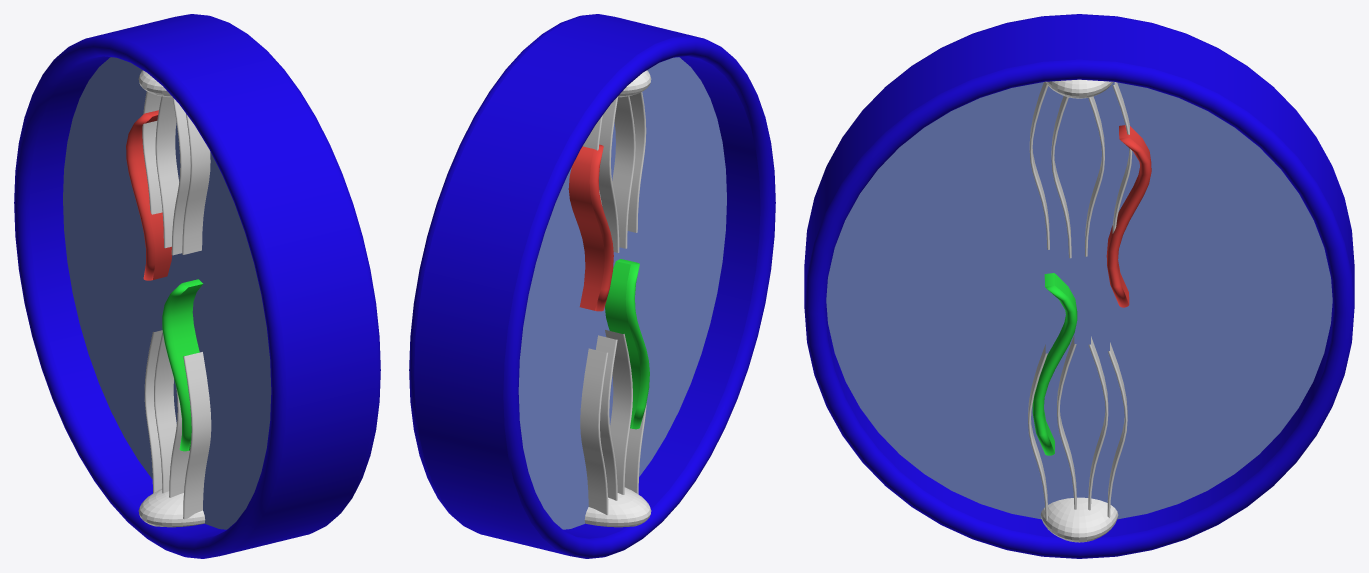
The model's file is mitosis.gltf.
3 renders of one model, left to right at view 1: azimuth 30°, elevation 25°; view 2: azimuth 150°, elevation 25°; view 3: azimuth 270°, elevation 25°, orthographic. The views are drawn at different scales.
Visible parts, largest first — view 1: plasma_membrane, cytoplasm, dna.002, polar_microtube.005, polar_microtube.002, polar_microtube.003, polar_microtube, dna, polar_microtube.001, spindle_pole.001, polar_microtube.007, dna.001 (+2 smaller); view 2: plasma_membrane, cytoplasm, dna, dna.002, polar_microtube.007, polar_microtube.004, polar_microtube.001, polar_microtube, polar_microtube.002, spindle_pole.001, dna.001, polar_microtube.003 (+1 smaller); view 3: cytoplasm, plasma_membrane, dna.002, spindle_pole.001, dna, dna.001, spindle_pole, polar_microtube.007, polar_microtube, polar_microtube.005, polar_microtube.004, polar_microtube.003 (+3 smaller).
Boxes of the visible parts, left/top/right/bottom form: plasma_membrane: left=14, top=14, right=380, bottom=558; cytoplasm: left=63, top=57, right=271, bottom=529; dna.002: left=162, top=279, right=202, bottom=451; polar_microtube.005: left=183, top=352, right=211, bottom=519; polar_microtube.002: left=155, top=96, right=178, bottom=248; polar_microtube.003: left=182, top=114, right=210, bottom=254; polar_microtube: left=154, top=332, right=176, bottom=493; dna: left=126, top=111, right=168, bottom=280; polar_microtube.001: left=171, top=97, right=190, bottom=255; spindle_pole.001: left=138, top=489, right=205, bottom=527; polar_microtube.007: left=144, top=330, right=162, bottom=493; dna.001: left=126, top=110, right=171, bottom=280; plasma_membrane: left=409, top=14, right=775, bottom=558; cytoplasm: left=518, top=57, right=726, bottom=529; dna: left=568, top=144, right=613, bottom=311; dna.002: left=605, top=259, right=649, bottom=429; polar_microtube.007: left=580, top=348, right=608, bottom=515; polar_microtube.004: left=605, top=330, right=632, bottom=494; polar_microtube.001: left=612, top=96, right=635, bottom=248; polar_microtube: left=596, top=335, right=617, bottom=500; polar_microtube.002: left=599, top=97, right=619, bottom=252; spindle_pole.001: left=584, top=487, right=651, bottom=527; dna.001: left=569, top=145, right=613, bottom=308; polar_microtube.003: left=627, top=92, right=646, bottom=232; cytoplasm: left=826, top=82, right=1332, bottom=519; plasma_membrane: left=804, top=14, right=1354, bottom=558; dna.002: left=1032, top=273, right=1077, bottom=455; spindle_pole.001: left=1040, top=497, right=1118, bottom=542; dna: left=1107, top=125, right=1151, bottom=287; dna.001: left=1106, top=125, right=1148, bottom=307; spindle_pole: left=1045, top=79, right=1113, bottom=98; polar_microtube.007: left=1107, top=342, right=1127, bottom=517; polar_microtube: left=1088, top=336, right=1108, bottom=510; polar_microtube.005: left=1028, top=344, right=1047, bottom=520; polar_microtube.004: left=1057, top=335, right=1076, bottom=509; polar_microtube.003: left=1029, top=82, right=1049, bottom=249.
Size of the model in its own units: 0.5 by 2.08 by 2.08.
